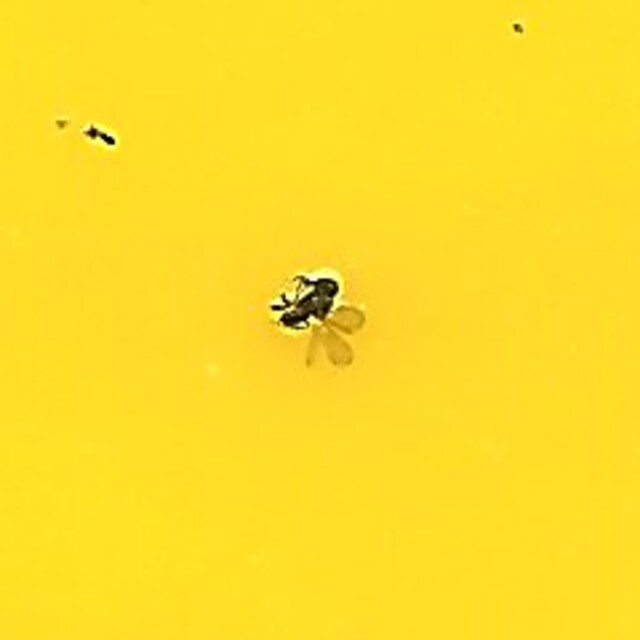Hymenoptera: (267, 268, 373, 372)
